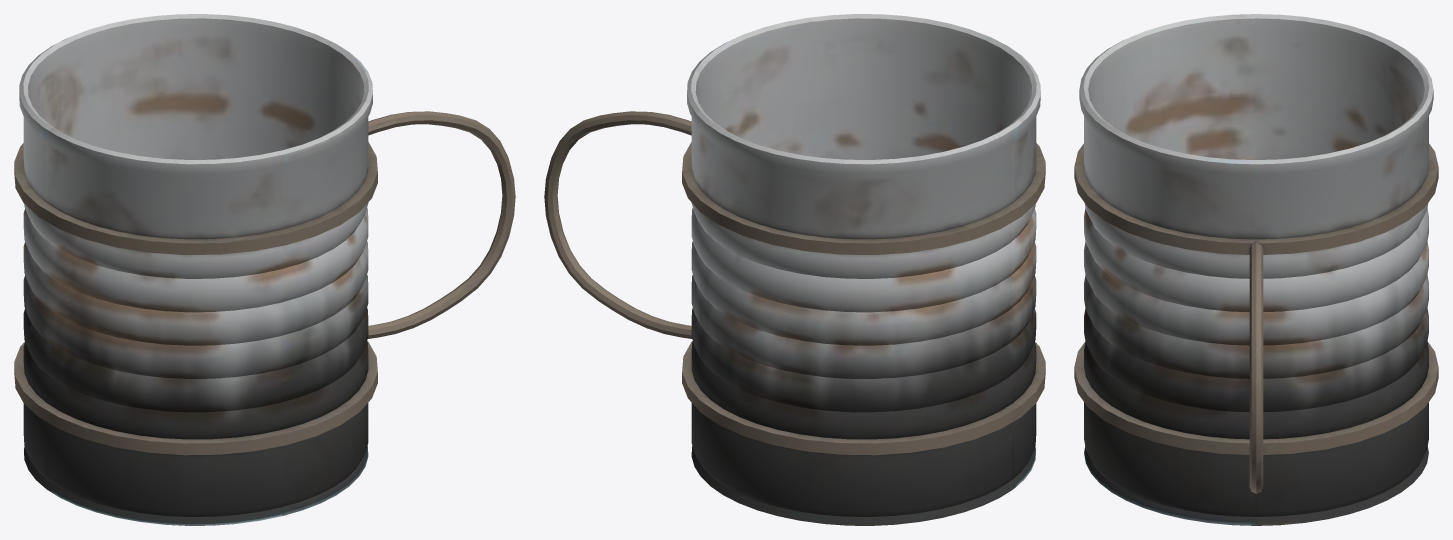
The model's file is caneca_lata.glb.
3 views of the same model, side by side, from view 1: azimuth 30°, elevation 25°; view 2: azimuth 150°, elevation 25°; view 3: azimuth 270°, elevation 25° (orthographic).
Visible parts, largest first — view 1: lata; view 2: lata; view 3: lata.
Part boxes in pixels (left/top/right/bottom): lata: left=14, top=14, right=515, bottom=525; lata: left=544, top=14, right=1045, bottom=525; lata: left=1074, top=14, right=1438, bottom=525.
Bounding box in the file's own units: 0.1196 × 0.089 × 0.0792.
Materials: 1 (1 with a texture image).
